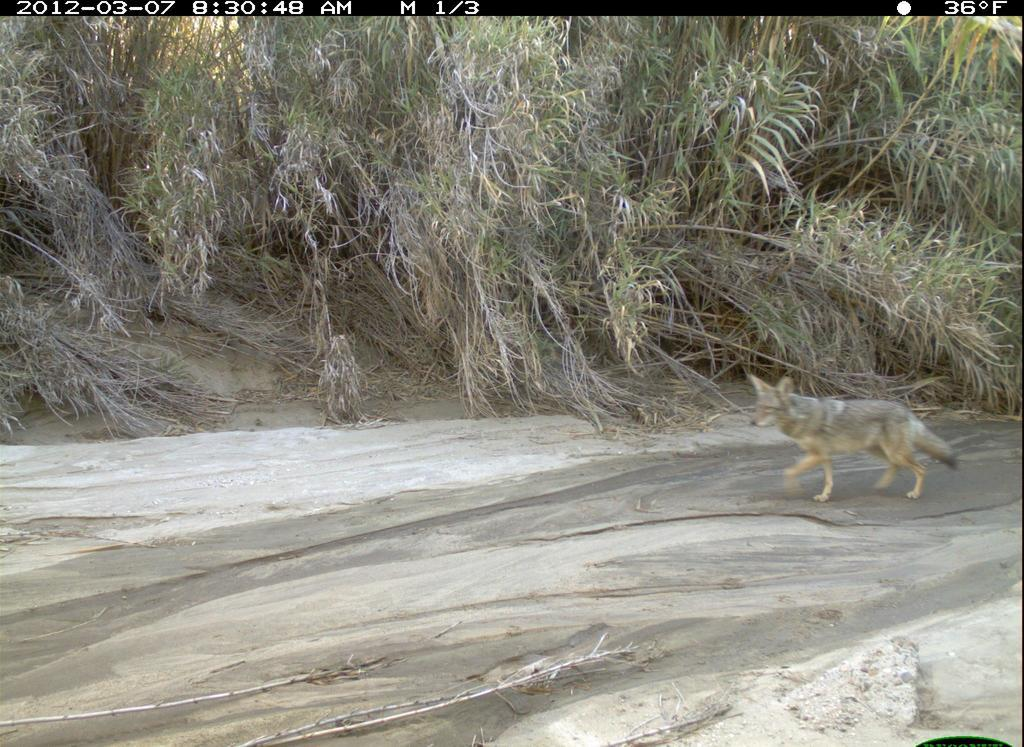coyote: (735, 359, 969, 507)
